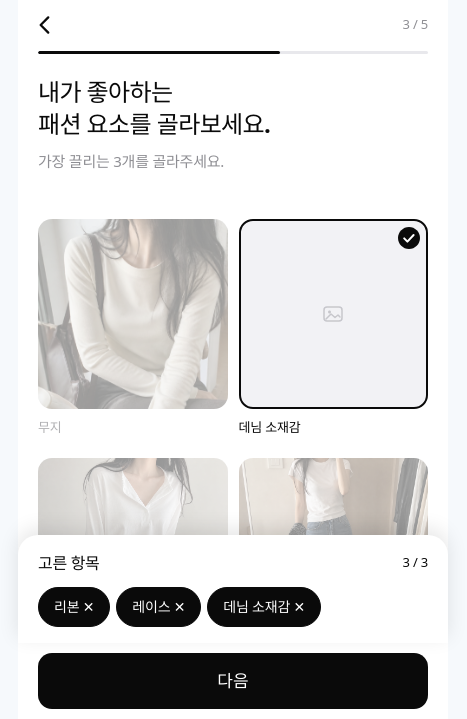
Test: user feature screens › blocks progress when the design screen's three picks become incomplete
The image size is (467, 719).
expect the button "다음" is enabled: met, box [38,653,428,709]
Click the button "리본 ✕" at (74, 607), box [38,587,110,627]
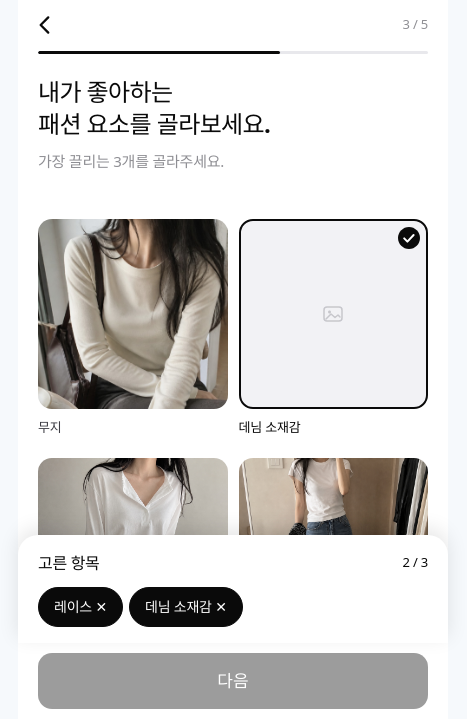
expect the button "다음" is disabled: met, box [38,653,428,709]
